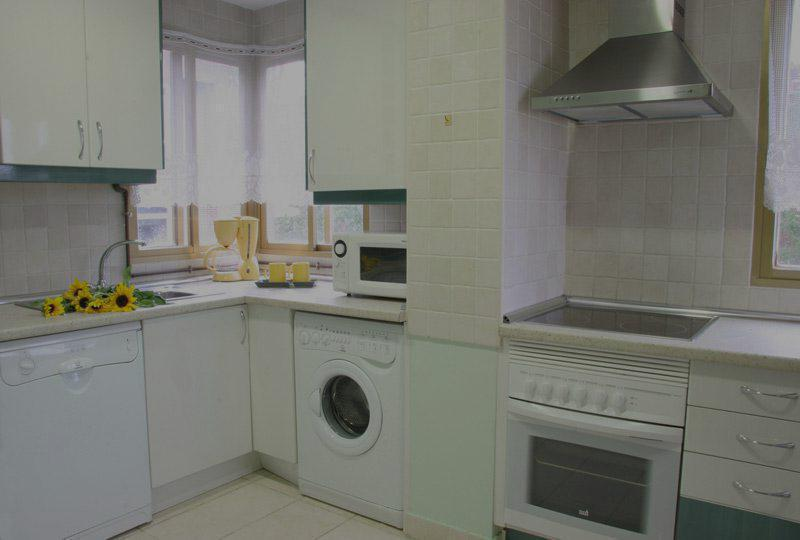Electrodomestico: (496, 347, 687, 536), (3, 319, 137, 539), (295, 313, 403, 503)
Lavaplatos: (19, 235, 200, 321)
